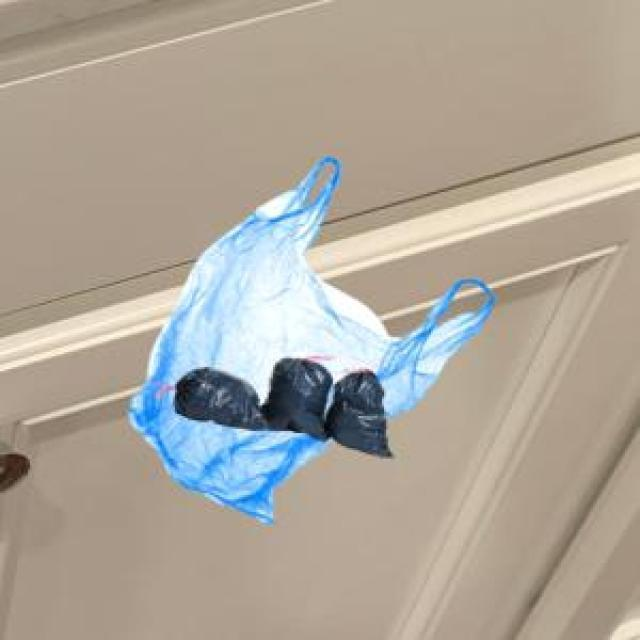miscellaneous trash: (171, 354, 387, 452)
